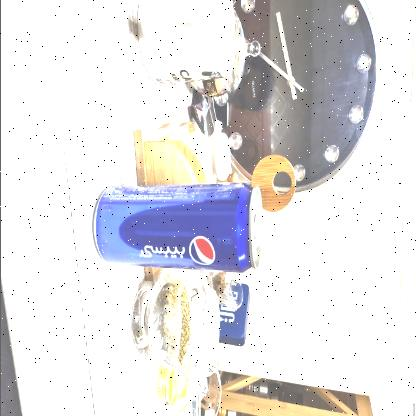Can: (90, 179, 263, 274)
